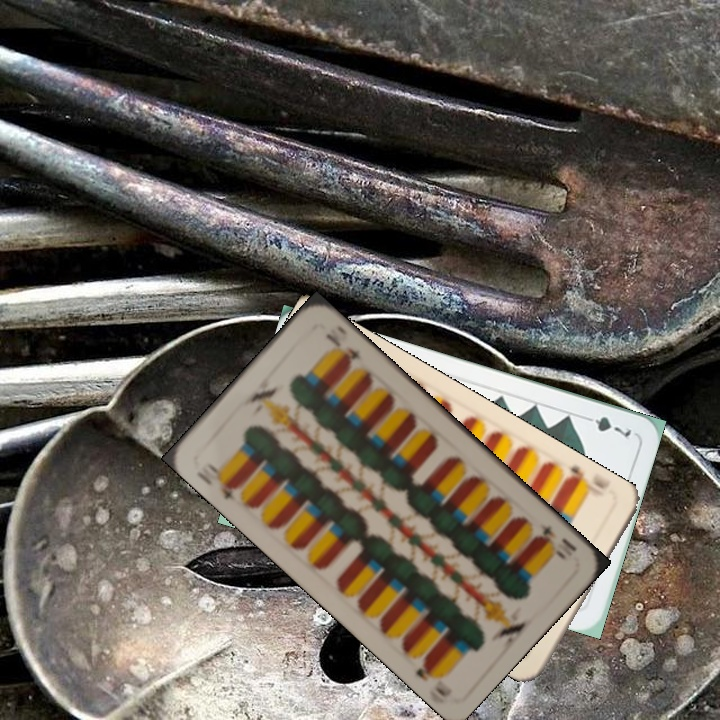E10: (192, 459, 242, 503), (532, 519, 569, 563), (560, 461, 612, 492)
G7: (578, 411, 634, 440)
